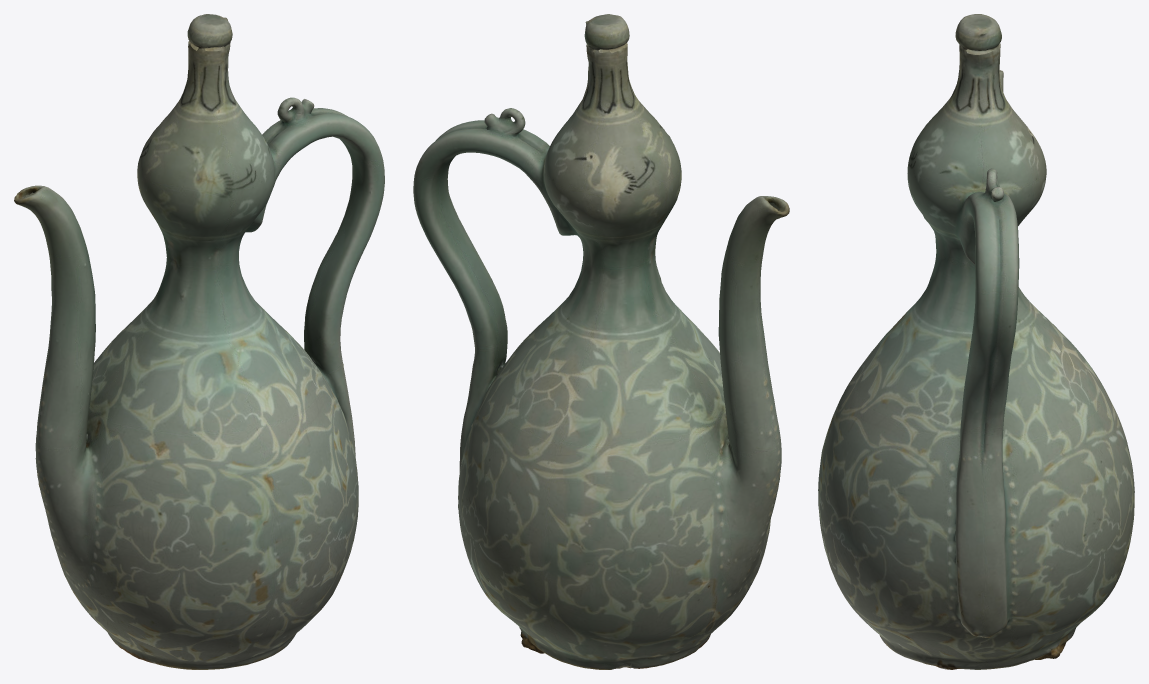
Rendered from celadon-peony-gourd-ewer.glb.
3 views of the same model, side by side, from view 1: azimuth 30°, elevation 25°; view 2: azimuth 150°, elevation 25°; view 3: azimuth 270°, elevation 25° (orthographic).
Visible parts, largest first — view 1: bon010075-000-30000; view 2: bon010075-000-30000; view 3: bon010075-000-30000.
Part boxes in pixels (x1,y1,x2,y2): bon010075-000-30000: (14,14,384,669); bon010075-000-30000: (413,14,789,669); bon010075-000-30000: (818,14,1134,669).
Bounding box in the file's own units: 215 × 345 × 159.
1 material, 1 textured.
